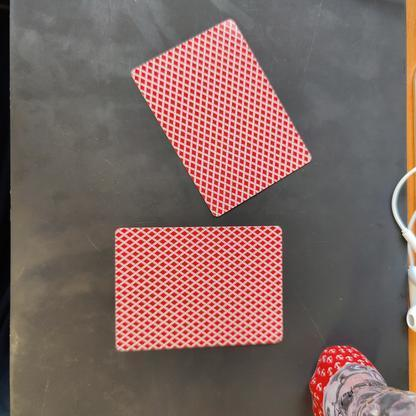card: (122, 9, 320, 220), (97, 216, 299, 358)
